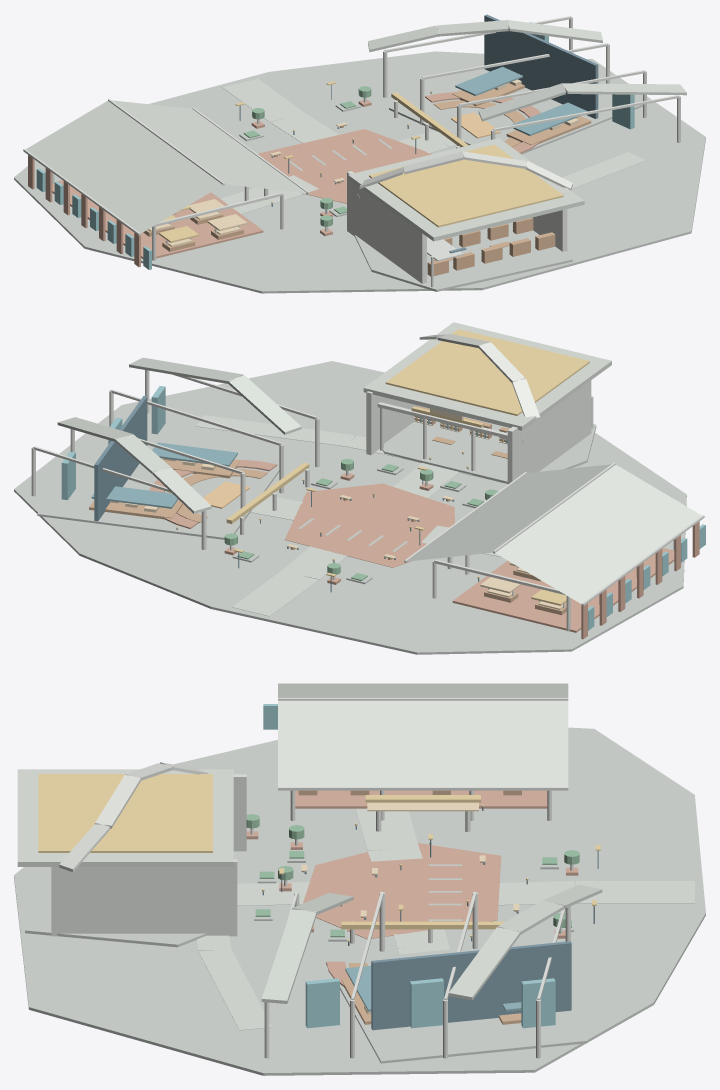
Rendered from a42_public_confluence.glb.
The picture shows the model from 3 angles, top to bottom: view 1: azimuth 30°, elevation 25°; view 2: azimuth 150°, elevation 25°; view 3: azimuth 270°, elevation 25°; orthographic projection. The views are drawn at different scales.
Bounding box in the file's own units: 226 × 35.25 × 186.
